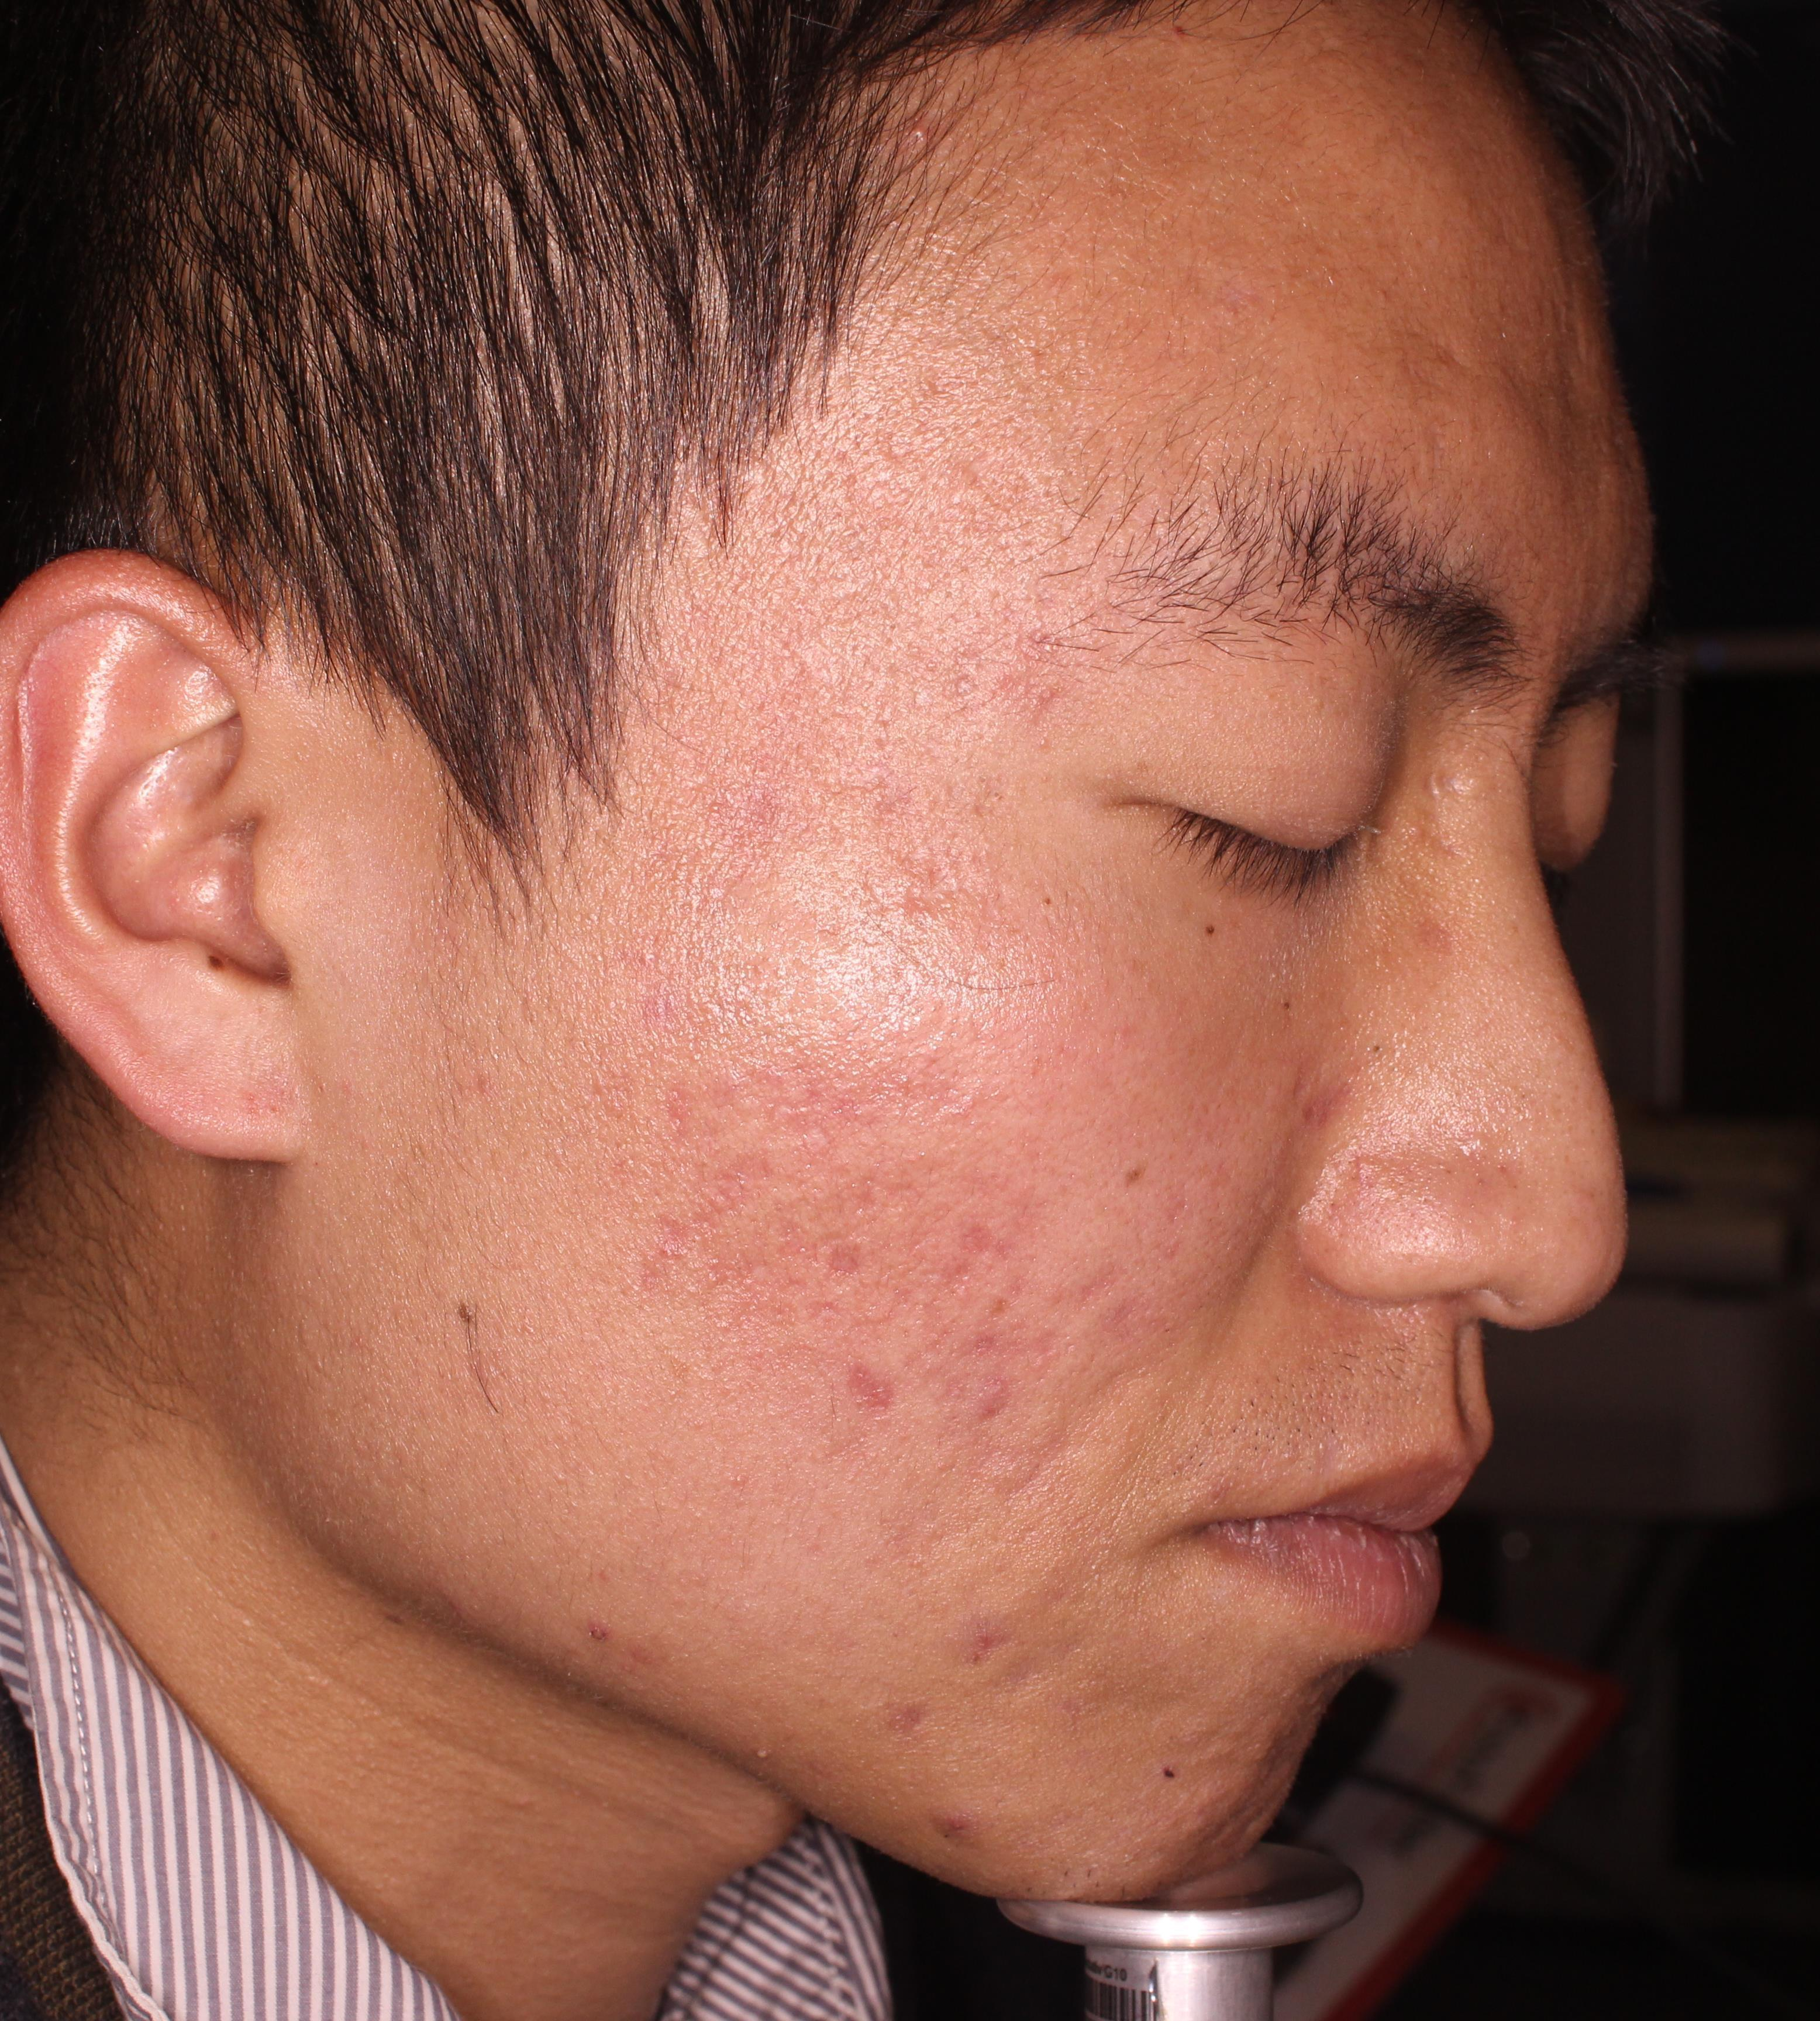fore: (924, 1782, 1031, 1895), (539, 1580, 655, 1675), (950, 1378, 1059, 1477), (938, 1589, 1042, 1687), (829, 1334, 921, 1442), (889, 1687, 961, 1768)
